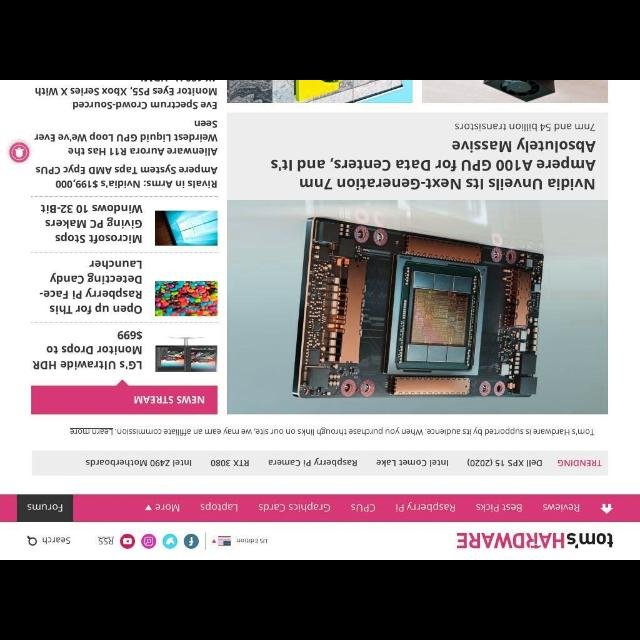button: (10, 145, 28, 163)
icon: (600, 503, 612, 513), (28, 535, 36, 547), (146, 504, 152, 510), (212, 538, 215, 544)
image: (229, 200, 611, 416), (229, 81, 409, 101), (424, 82, 608, 100), (456, 532, 612, 550), (184, 534, 198, 548), (163, 534, 177, 548), (142, 534, 156, 548), (120, 534, 134, 548), (218, 536, 230, 544)
spinner: (146, 501, 180, 511), (212, 535, 230, 545)
text: (272, 140, 596, 190), (34, 121, 216, 157), (39, 259, 142, 313), (34, 81, 220, 109), (39, 201, 141, 245), (33, 330, 143, 370), (69, 428, 594, 436), (38, 166, 216, 188), (452, 122, 596, 132), (84, 460, 190, 468), (132, 395, 205, 405), (258, 502, 330, 512), (267, 458, 357, 466), (468, 458, 542, 466), (396, 502, 454, 512), (377, 459, 448, 467), (200, 501, 238, 512), (475, 503, 521, 511), (557, 459, 601, 467), (544, 503, 580, 512), (211, 459, 249, 467), (156, 502, 180, 512), (350, 503, 376, 512), (42, 536, 70, 544), (238, 537, 268, 543), (98, 536, 114, 544)
textbutton: (18, 494, 72, 522)
toolbar: (1, 494, 639, 520)
